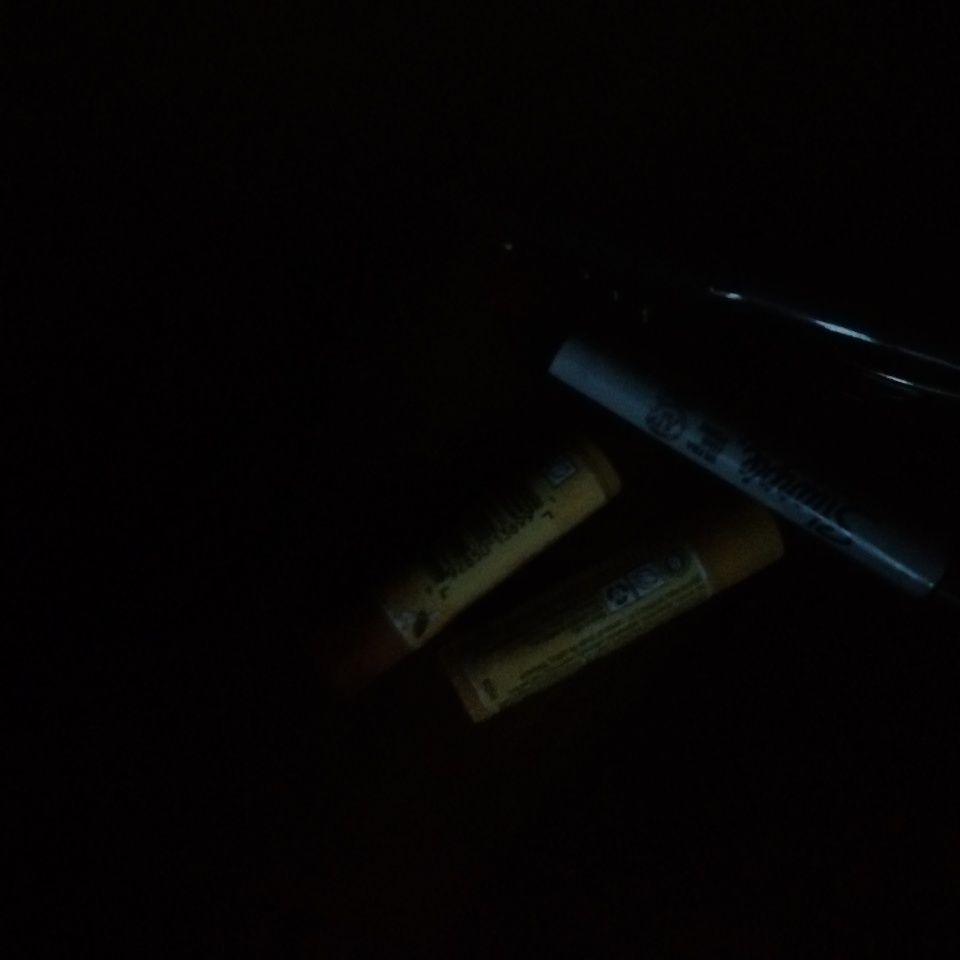chapstick: (453, 500, 787, 721), (384, 444, 623, 654)
